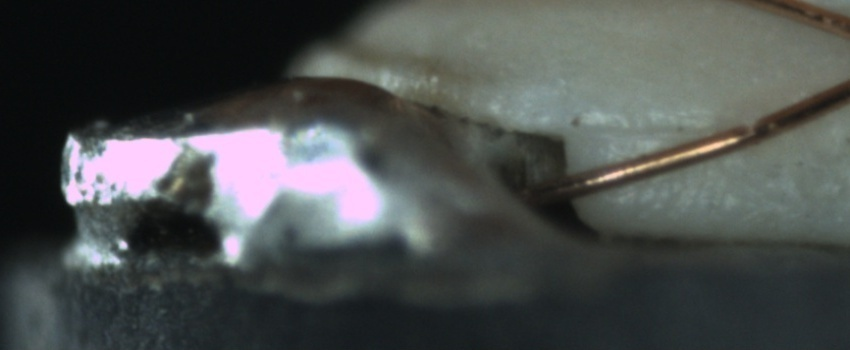DL: (579, 97, 714, 160)
